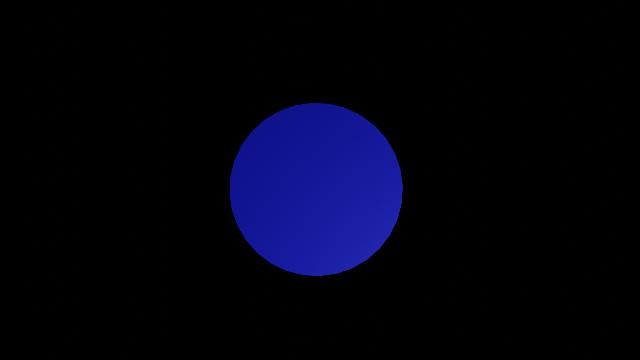Cylinder: (224, 96, 414, 282)
